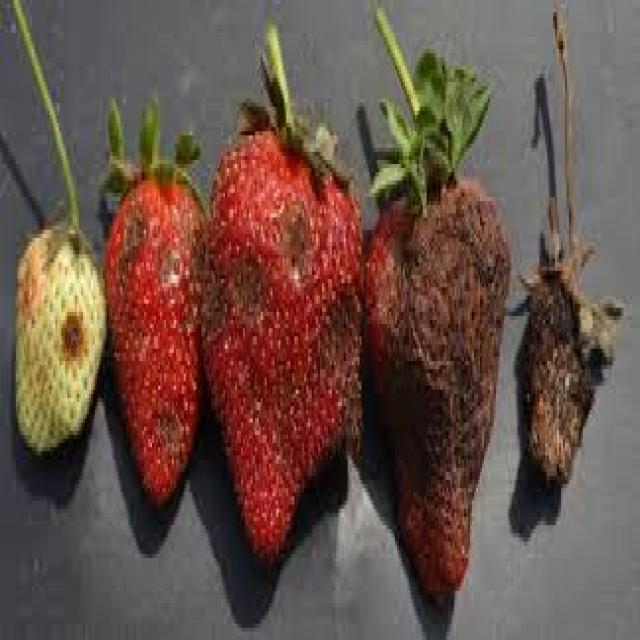Mancha negra Antracnosis: (198, 87, 370, 569), (364, 135, 514, 622), (100, 150, 206, 500), (12, 206, 111, 468)
Podredumbre de cuero: (518, 245, 604, 488)
